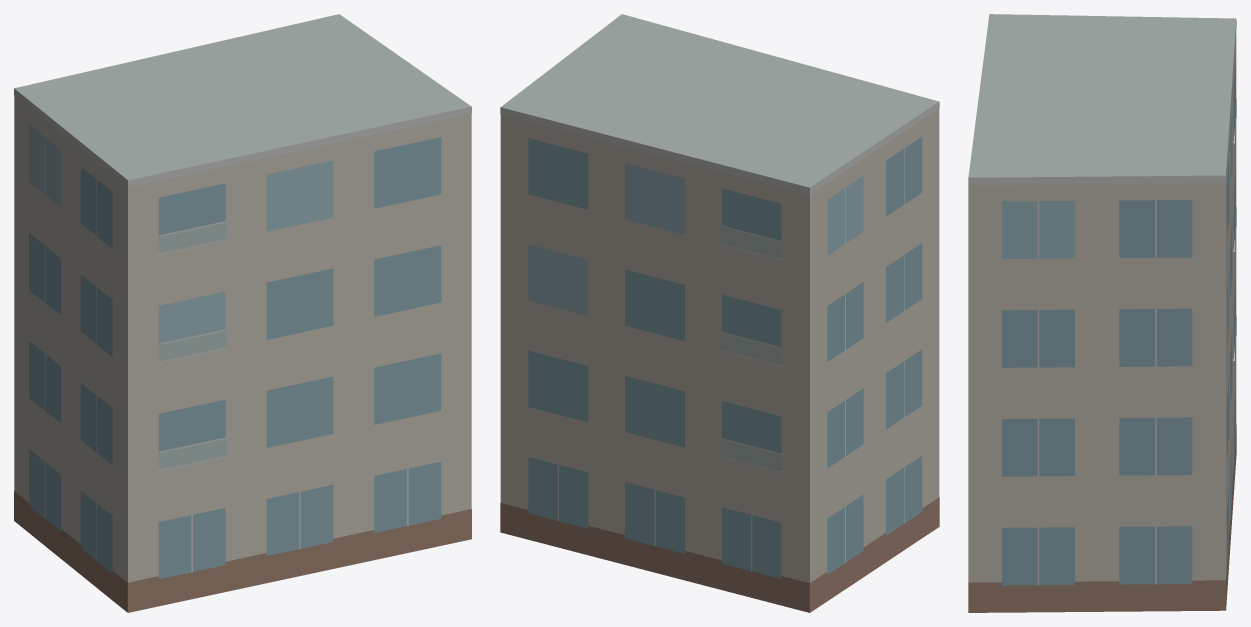
The model's file is survey-upis-32949936.glb.
3 renders of one model, left to right at view 1: azimuth 30°, elevation 25°; view 2: azimuth 150°, elevation 25°; view 3: azimuth 270°, elevation 25°, orthographic. The views are drawn at different scales.
Parts seen in each view (by area): view 1: survey-upis-32949936.tmp; view 2: survey-upis-32949936.tmp; view 3: survey-upis-32949936.tmp.
Part boxes in pixels (<box>): survey-upis-32949936.tmp: <box>14,14,471,612</box>; survey-upis-32949936.tmp: <box>500,14,939,612</box>; survey-upis-32949936.tmp: <box>968,14,1236,612</box>.
Bounding box in the file's own units: 11.83 × 14.65 × 8.2.
